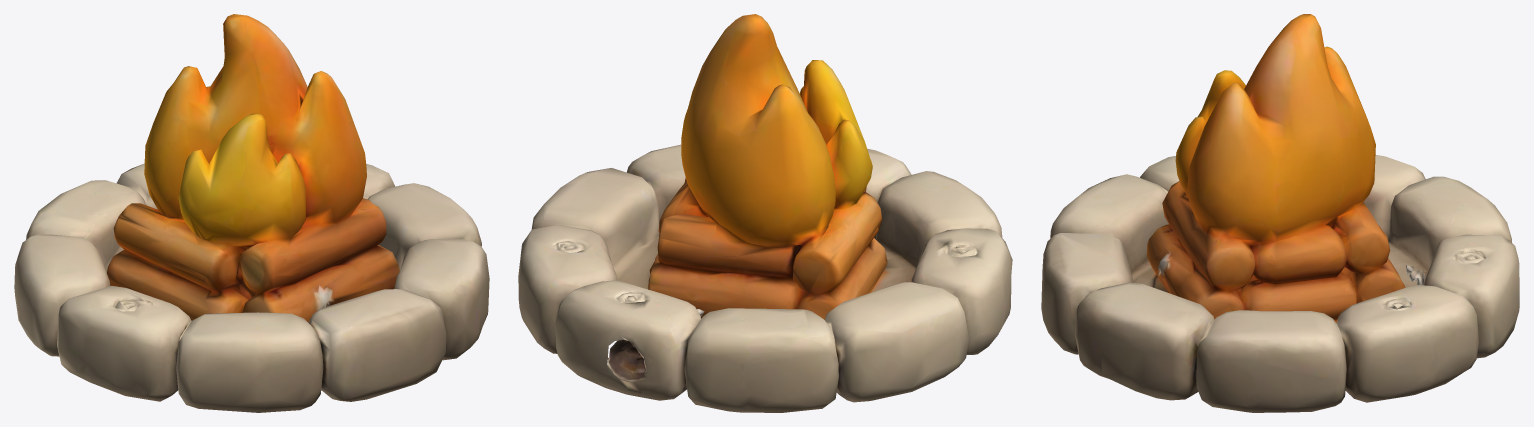
File: campfire.glb
3 renders of one model, left to right at view 1: azimuth 30°, elevation 25°; view 2: azimuth 150°, elevation 25°; view 3: azimuth 270°, elevation 25°, orthographic. The views are drawn at different scales.
Parts seen in each view (by area): view 1: tripo_node_0b79e77f-c0fb-4d4f-928b-16391ea48294; view 2: tripo_node_0b79e77f-c0fb-4d4f-928b-16391ea48294; view 3: tripo_node_0b79e77f-c0fb-4d4f-928b-16391ea48294.
Part boxes in pixels (x1,y1,x2,y2): tripo_node_0b79e77f-c0fb-4d4f-928b-16391ea48294: (14,14,489,412); tripo_node_0b79e77f-c0fb-4d4f-928b-16391ea48294: (518,14,1012,412); tripo_node_0b79e77f-c0fb-4d4f-928b-16391ea48294: (1041,14,1519,412).
Size of the model in its own units: 0.9984 by 0.6904 by 0.9913.
Materials: 1 (1 with a texture image).
